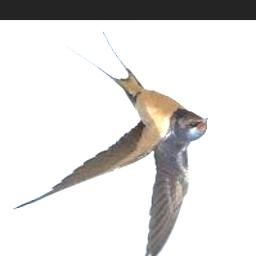Swallow: (10, 32, 208, 256)
